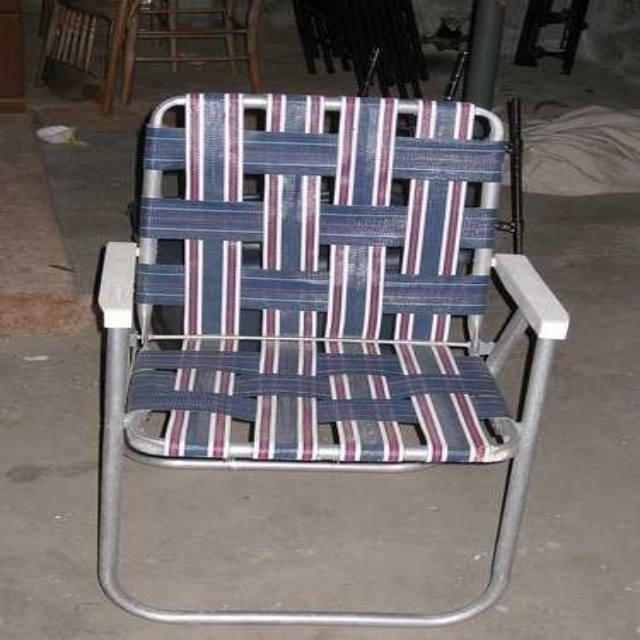obstacle: (99, 93, 567, 625), (36, 125, 79, 142)
